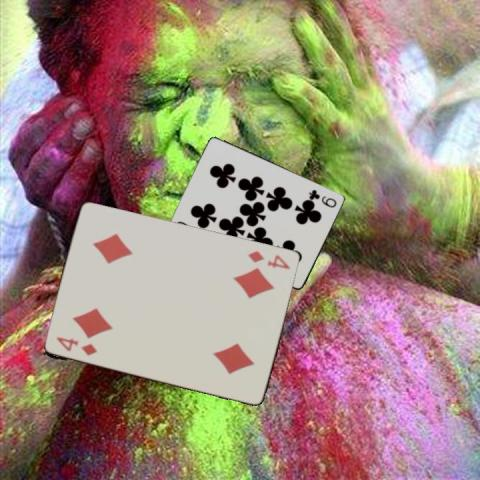4d: (245, 247, 292, 271), (54, 334, 100, 358)
9c: (306, 186, 338, 208)
